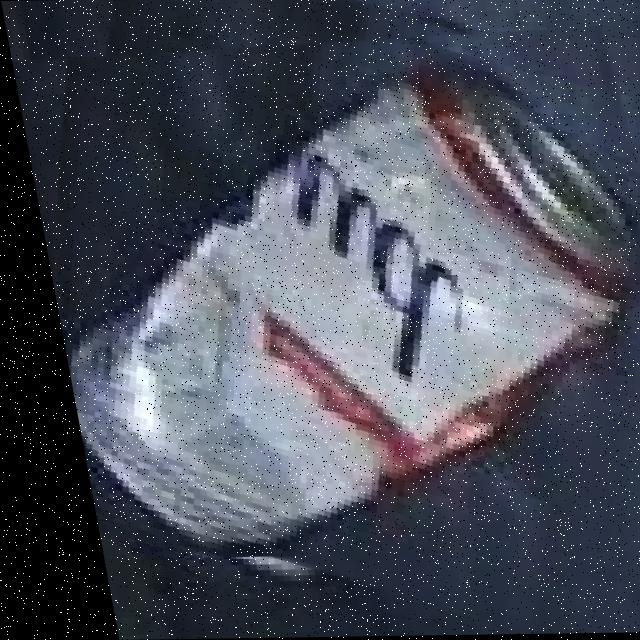litter: (49, 36, 640, 556)
